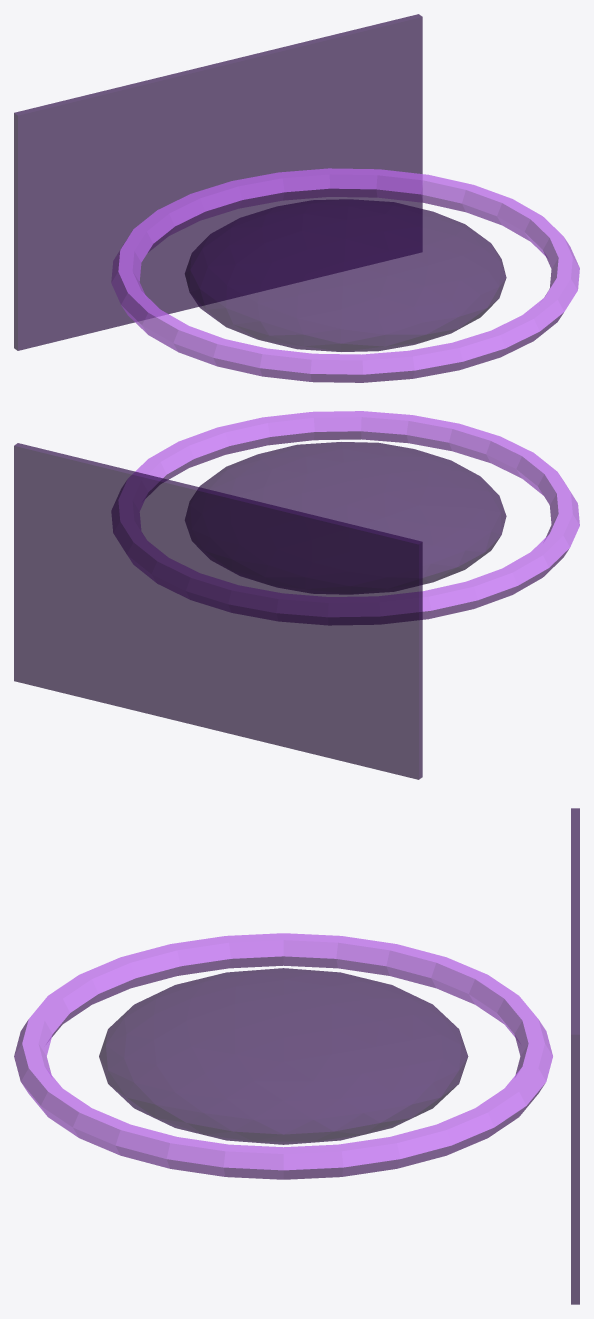
Rendered from vfx_spawn_portal.glb.
3 renders of one model, top to bottom at view 1: azimuth 30°, elevation 25°; view 2: azimuth 150°, elevation 25°; view 3: azimuth 270°, elevation 25°, orthographic. The views are drawn at different scales.
Parts seen in each view (by area): view 1: shadow, core, portal_ring; view 2: shadow, core, portal_ring; view 3: core, portal_ring, shadow.
Boxes of the visible parts, x1,y1,x2,y2 form: shadow: (14,14,422,350); core: (184,199,506,351); portal_ring: (111,168,579,382); shadow: (14,443,422,779); core: (185,442,506,593); portal_ring: (111,411,579,625); core: (99,968,468,1144); portal_ring: (14,933,552,1179); shadow: (571,808,579,1304).
Bounding box in the file's own units: 1.81 × 1 × 1.9.
